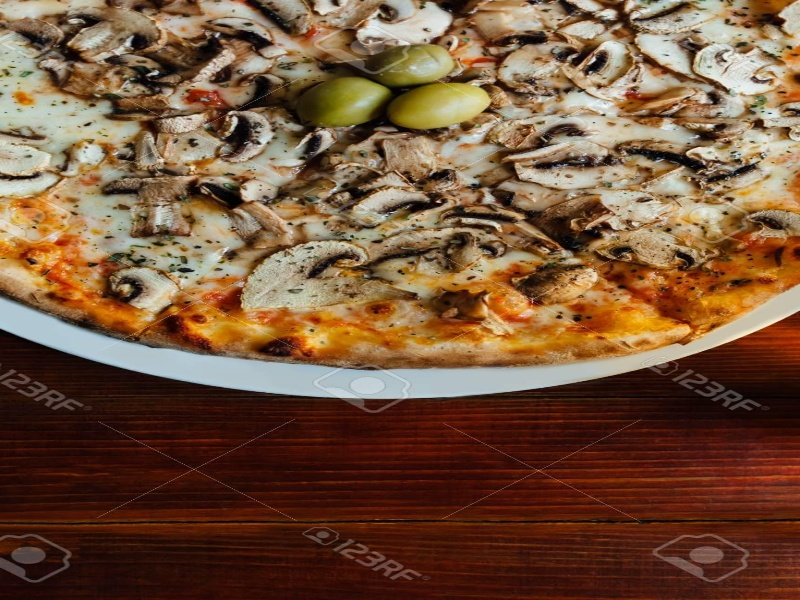champignon: (232, 238, 409, 321), (105, 172, 235, 242), (686, 37, 788, 96), (95, 264, 195, 317)
olive: (378, 77, 501, 141), (287, 77, 394, 134), (357, 44, 466, 90)
